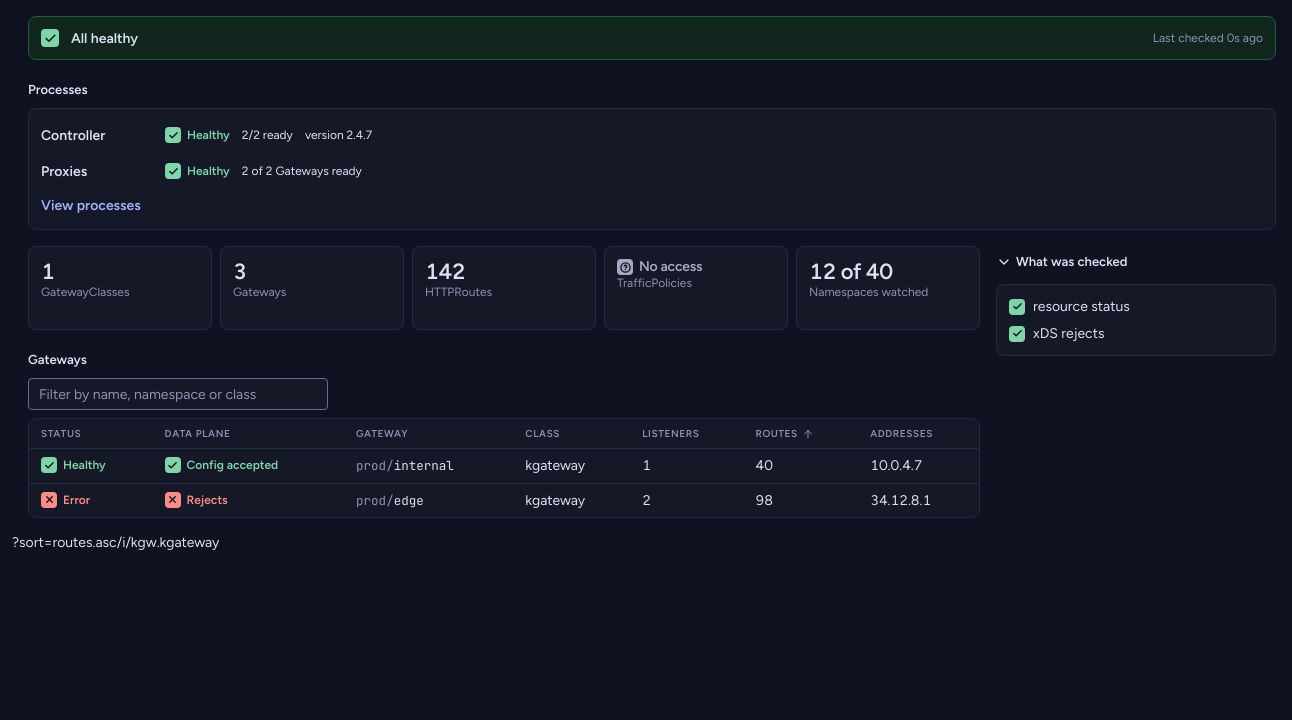
Test: gateway sort lives in the URL
The width and height of the screenshot is (1292, 720).
Expected: the table named "Gateways" is shown, [29,419,979,517]
Expected: the row "Healthy Config accepted prod/internal kgateway 1 40 10.0.4.7" is shown, [29,448,979,483]
Click the button "Routes": [785, 434] box [751,425,818,442]
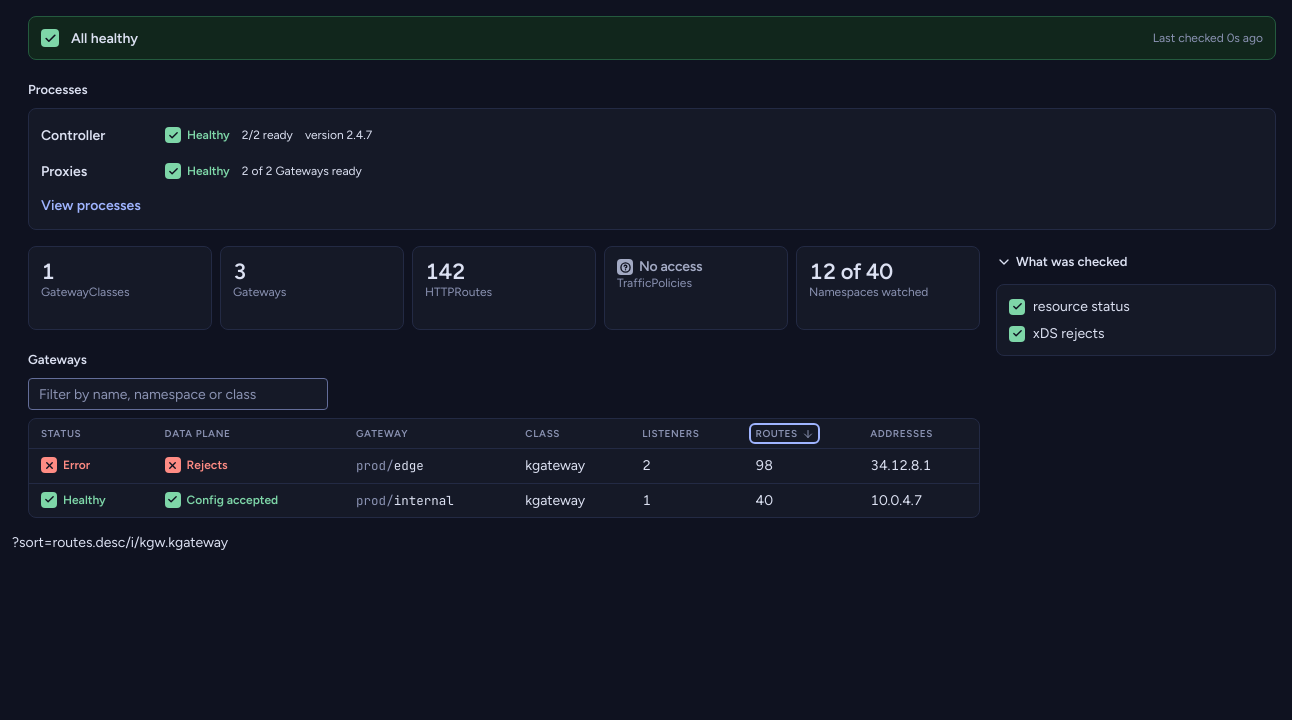
Expected: the row "Error Rejects prod/edge kgateway 2 98 34.12.8.1" is shown, [29,448,979,483]
Expected: the text with test id "location" shows "sort=routes.desc", [12,534,125,551]
